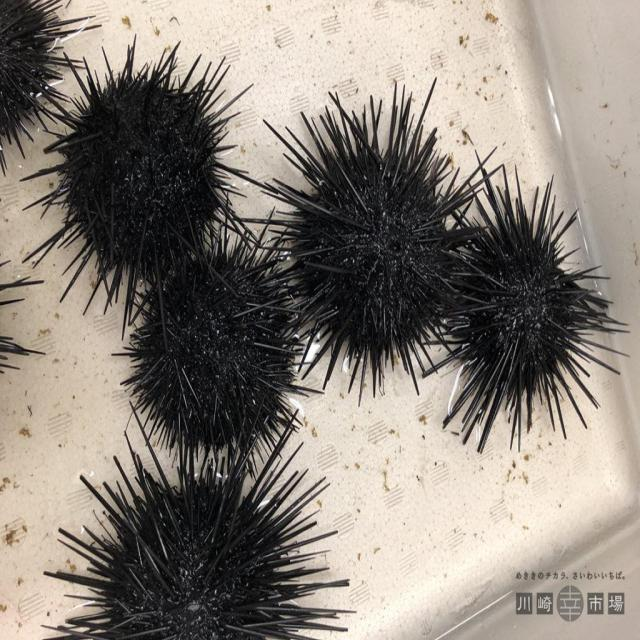Urchin: (42, 408, 348, 640), (26, 42, 253, 330), (262, 75, 457, 376), (443, 169, 632, 450), (114, 207, 306, 442), (0, 0, 101, 178), (0, 246, 44, 383)
